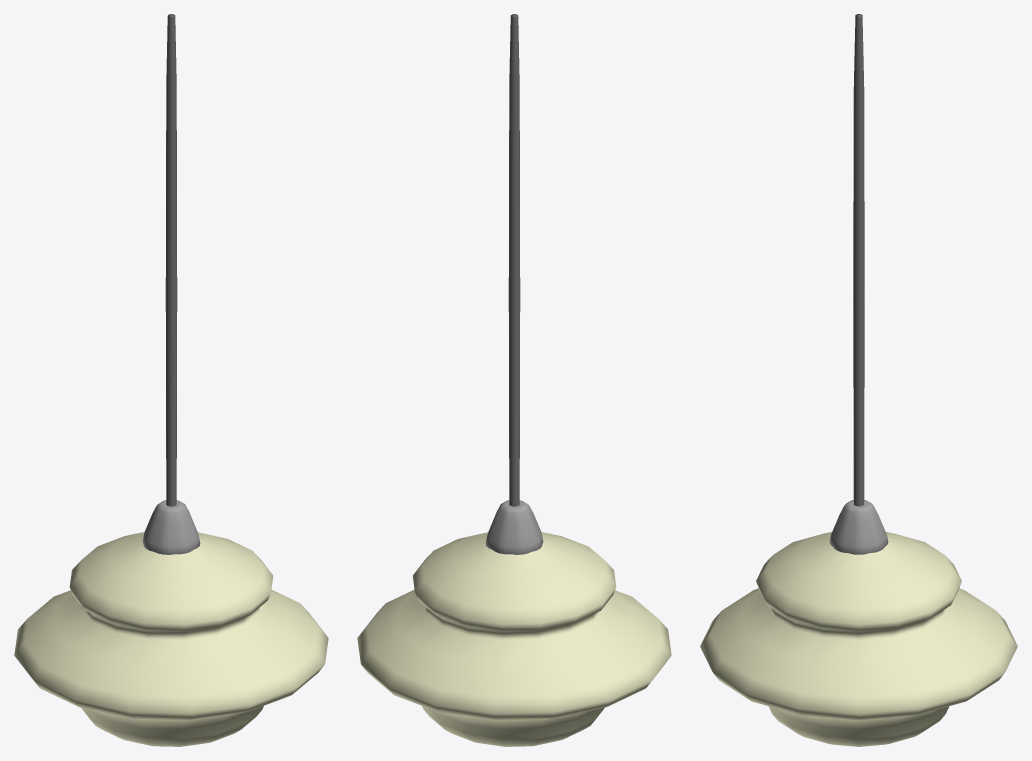
The model's file is Diner_Lamp.fbx.
3 renders of one model, left to right at view 1: azimuth 30°, elevation 25°; view 2: azimuth 150°, elevation 25°; view 3: azimuth 270°, elevation 25°, orthographic.
Visible parts, largest first — view 1: Lamp; view 2: Lamp; view 3: Lamp.
Part boxes in pixels (box(x1,y1,x2,y2)): Lamp: box(14, 14, 328, 746); Lamp: box(357, 14, 671, 746); Lamp: box(700, 14, 1017, 746).
Size of the model in its own units: 15 by 37.16 by 15.
